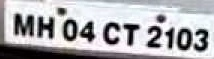character: (12, 12, 35, 38), (36, 15, 56, 39), (122, 22, 141, 47), (102, 21, 121, 45), (192, 28, 210, 52), (61, 18, 78, 42), (78, 20, 95, 43), (146, 25, 163, 48), (176, 27, 192, 51), (164, 26, 175, 50)
